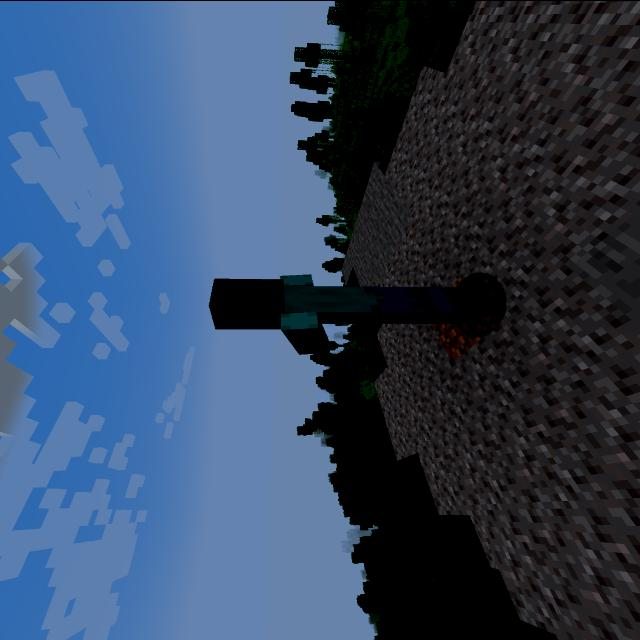Zombie: (186, 257, 500, 363)
